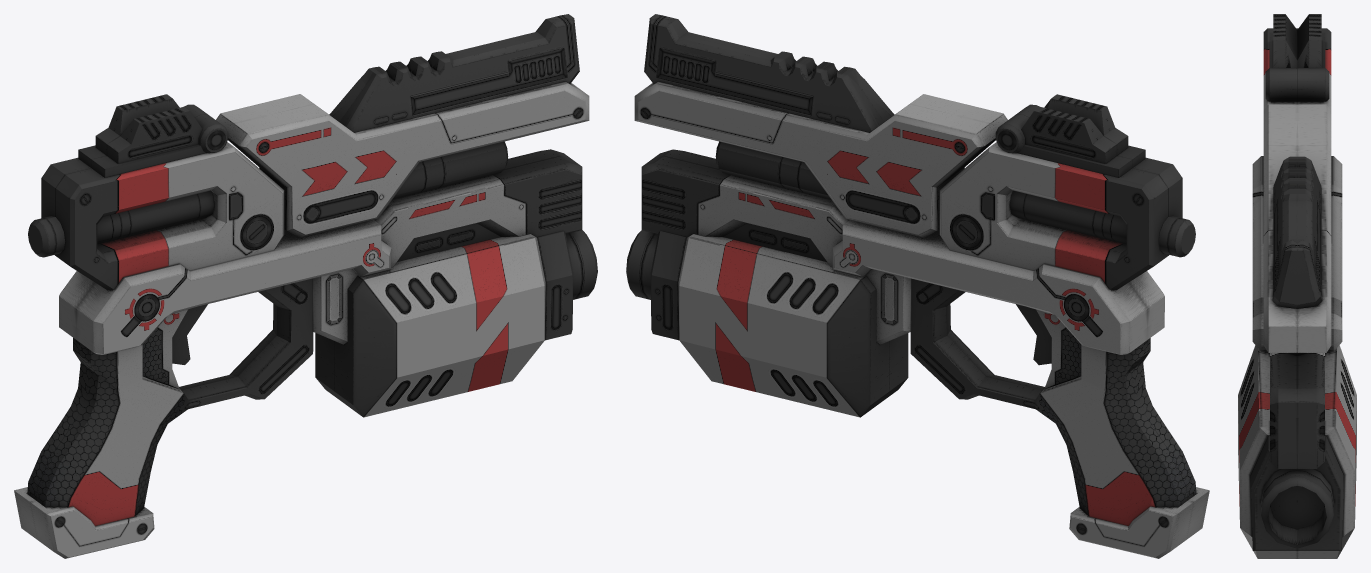
The picture shows the model from 3 angles, left to right: view 1: azimuth 30°, elevation 25°; view 2: azimuth 150°, elevation 25°; view 3: azimuth 270°, elevation 25°; orthographic projection. The views are drawn at different scales.
Visible parts, largest first — view 1: BaseMesh; view 2: BaseMesh; view 3: BaseMesh.
Boxes of the visible parts, x1,y1,x2,y2 form: BaseMesh: (14, 14, 597, 558); BaseMesh: (626, 14, 1209, 558); BaseMesh: (1238, 14, 1356, 558).
Bounding box in the file's own units: 6.83 × 4.87 × 1.21.
1 material, 1 textured.
